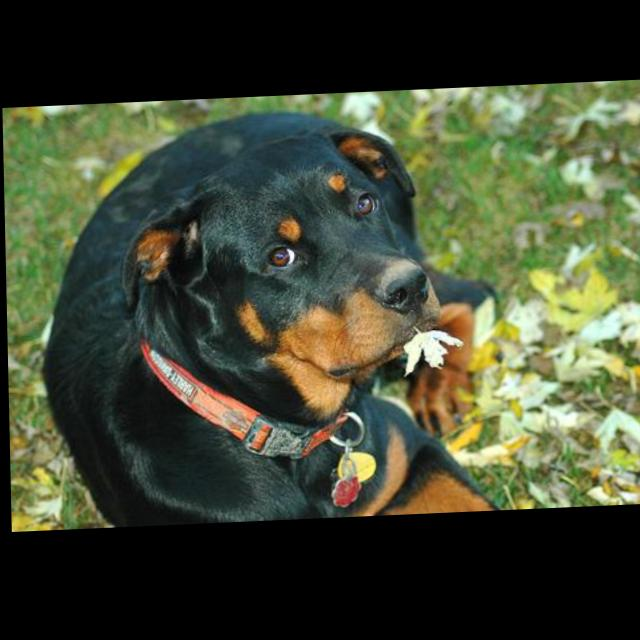rottweiler: (35, 105, 504, 532)
